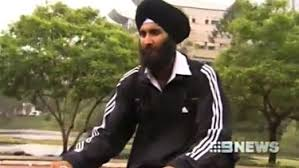helmet: (128, 1, 191, 73)
